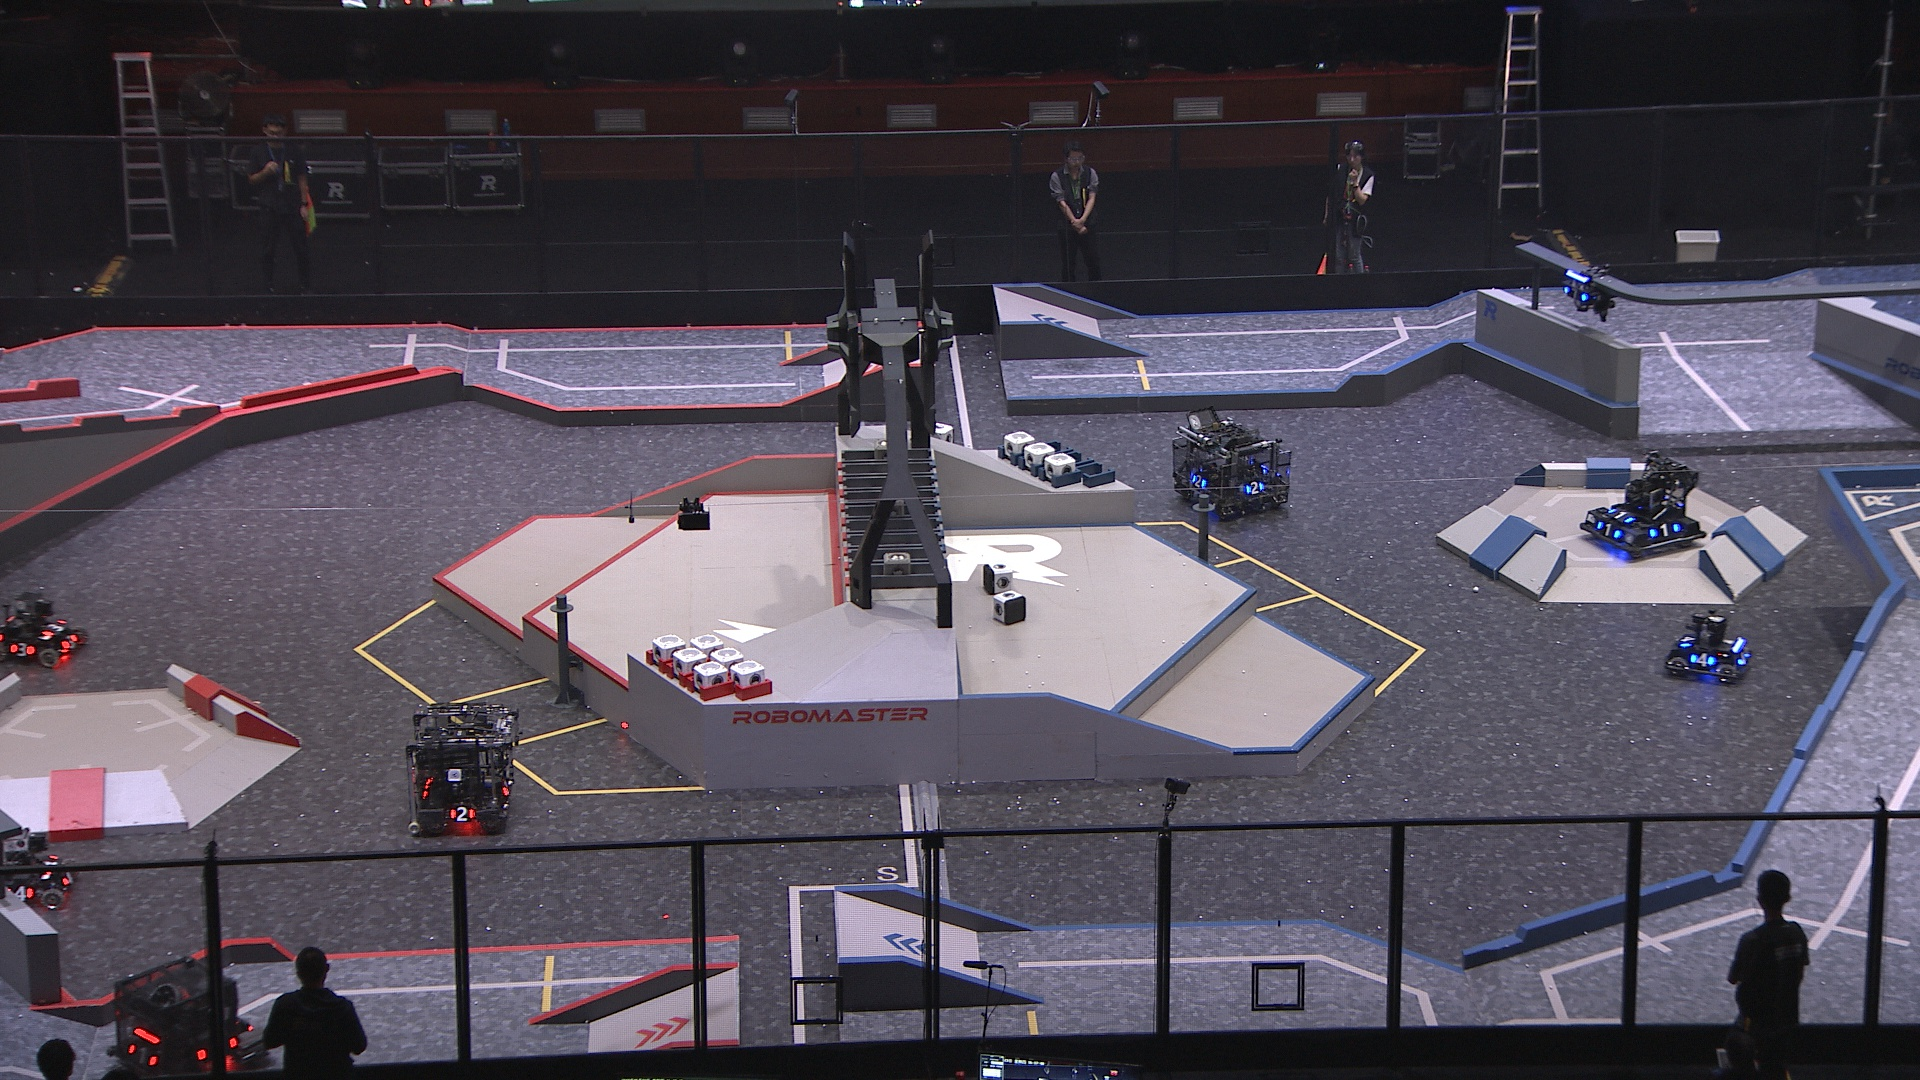armor: (127, 1043, 156, 1068), (7, 884, 38, 902), (1592, 522, 1622, 541), (448, 806, 479, 823), (1648, 522, 1680, 538), (40, 618, 69, 636), (1561, 286, 1589, 302), (1607, 506, 1633, 524), (57, 633, 79, 651), (40, 855, 61, 873), (11, 642, 36, 657), (1691, 654, 1716, 669), (1244, 480, 1267, 495), (1679, 633, 1698, 650), (1191, 473, 1209, 491), (1735, 651, 1751, 669), (62, 872, 76, 889), (501, 781, 512, 799)
car: (105, 953, 269, 1080), (404, 700, 524, 836), (1171, 404, 1295, 520), (1578, 452, 1708, 560), (1665, 608, 1755, 683)
watcher: (1560, 262, 1622, 324)
